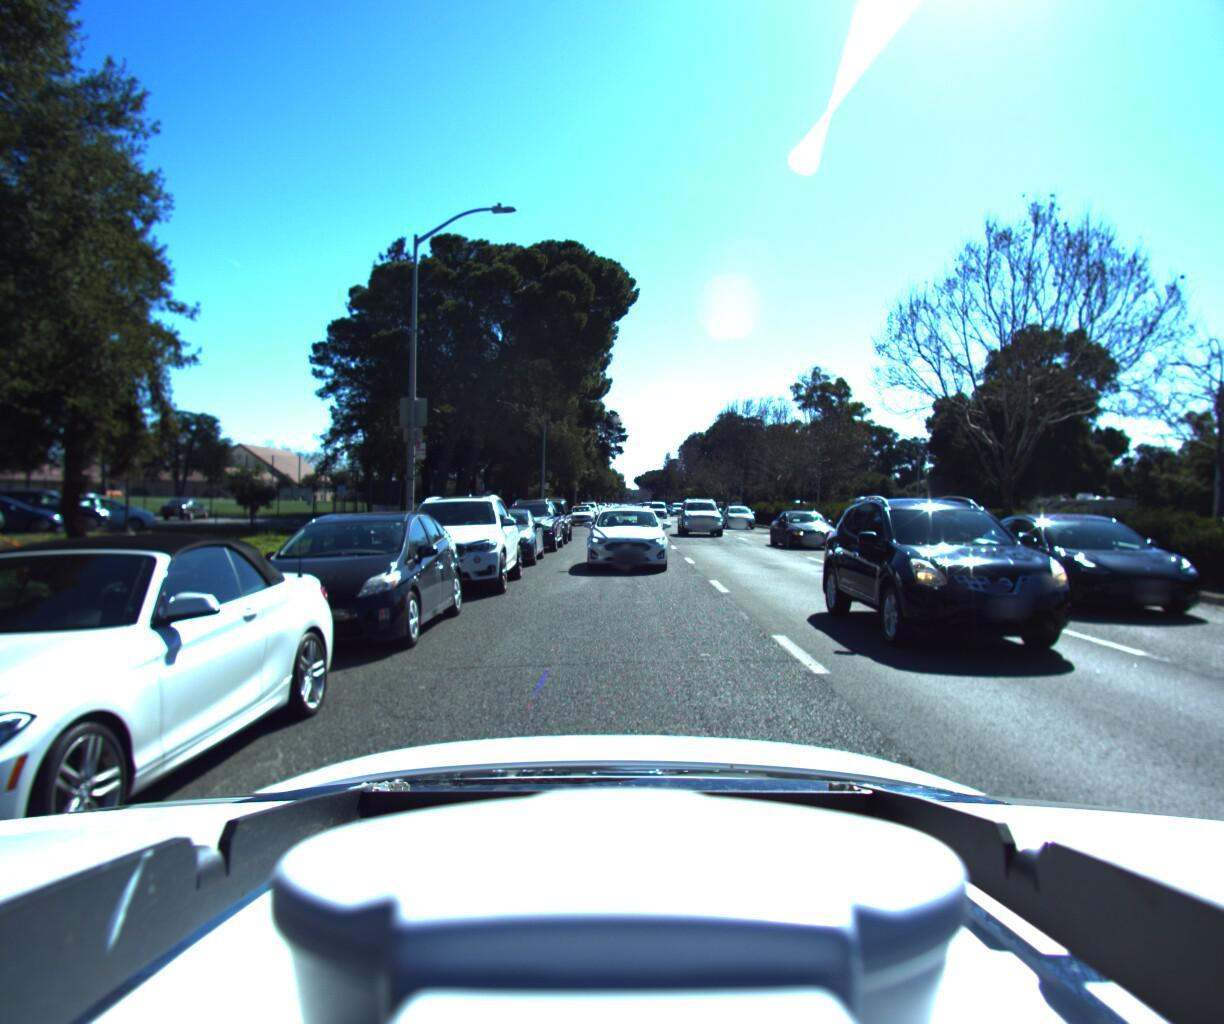car: (0, 516, 351, 973), (836, 482, 1197, 692), (211, 499, 466, 665), (973, 516, 1224, 630), (380, 486, 518, 601), (582, 501, 671, 574), (457, 501, 542, 566), (493, 493, 560, 553), (768, 508, 852, 552), (514, 491, 569, 544), (675, 496, 731, 540), (720, 505, 760, 531), (564, 502, 592, 524), (646, 500, 668, 519)
other_vehicle: (1024, 486, 1147, 554)
